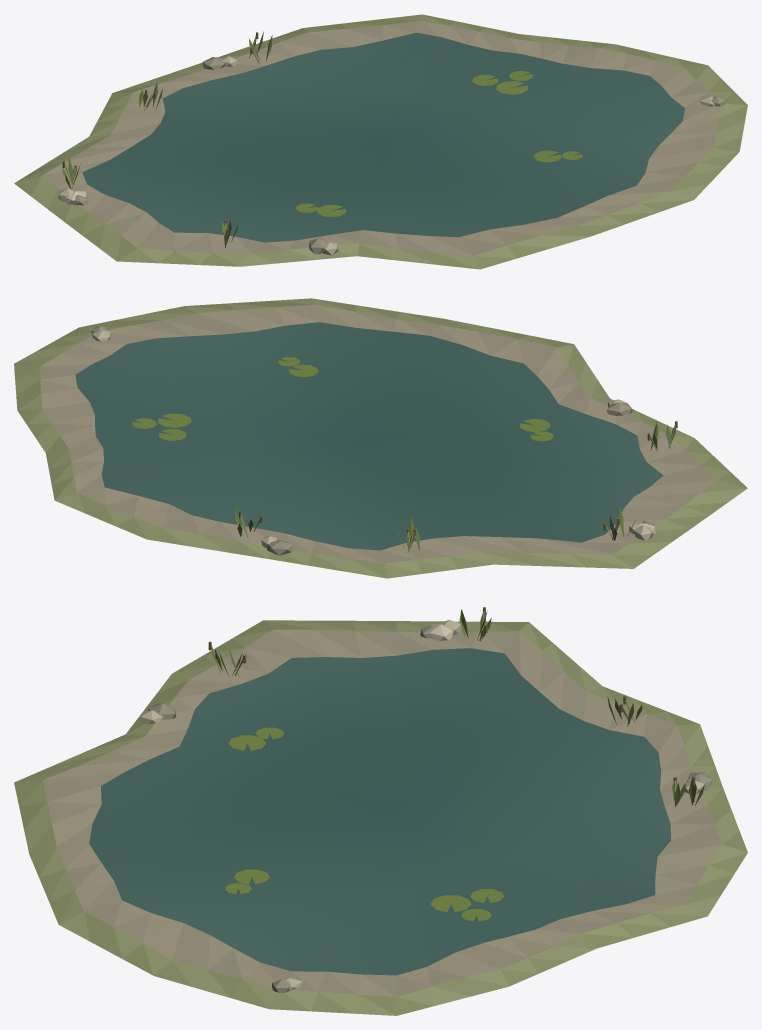
The model's file is lwf_pond_polish_static_v1.glb.
The picture shows the model from 3 angles, top to bottom: view 1: azimuth 30°, elevation 25°; view 2: azimuth 150°, elevation 25°; view 3: azimuth 270°, elevation 25°; orthographic projection. The views are drawn at different scales.
Parts seen in each view (by area): view 1: PondWater, PondMargin, BankDetails; view 2: PondWater, PondMargin, BankDetails; view 3: PondWater, PondMargin, BankDetails.
Boxes of the visible parts, x1,y1,x2,y2 form: PondWater: [82, 32, 684, 242]; PondMargin: [14, 14, 747, 269]; BankDetails: [58, 31, 725, 255]; PondWater: [75, 322, 663, 550]; PondMargin: [14, 298, 747, 578]; BankDetails: [91, 326, 677, 555]; PondWater: [89, 648, 670, 975]; PondMargin: [14, 620, 747, 1015]; BankDetails: [140, 607, 712, 992].
Size of the model in its own units: 10.34 by 0.5417 by 8.11.
Materials: 2 (1 with a texture image).
